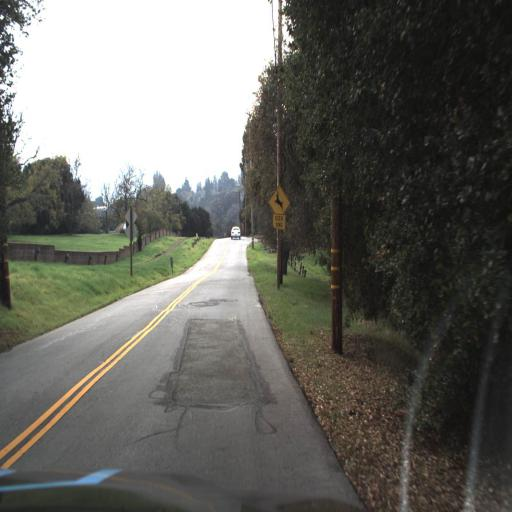car: (225, 222, 243, 243)
